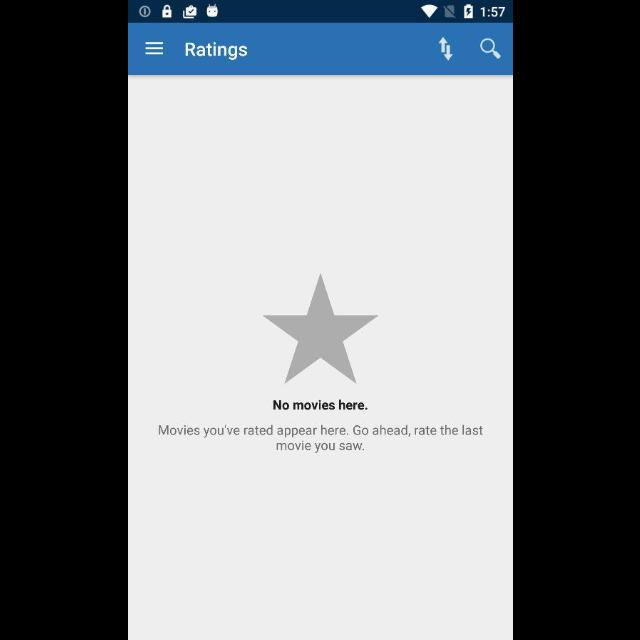icon: (262, 274, 378, 384), (479, 39, 501, 60), (438, 36, 452, 62), (144, 42, 164, 56)
text: (158, 424, 482, 454), (185, 42, 247, 62), (273, 400, 367, 410)
toolbar: (128, 24, 512, 76)
uppertaskbar: (128, 1, 512, 23)
